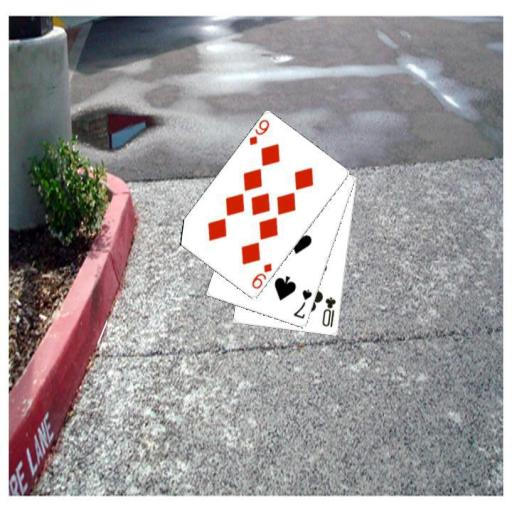10C: (319, 294, 338, 329)
7S: (290, 287, 314, 321)
9D: (248, 260, 274, 291), (246, 117, 271, 147)
